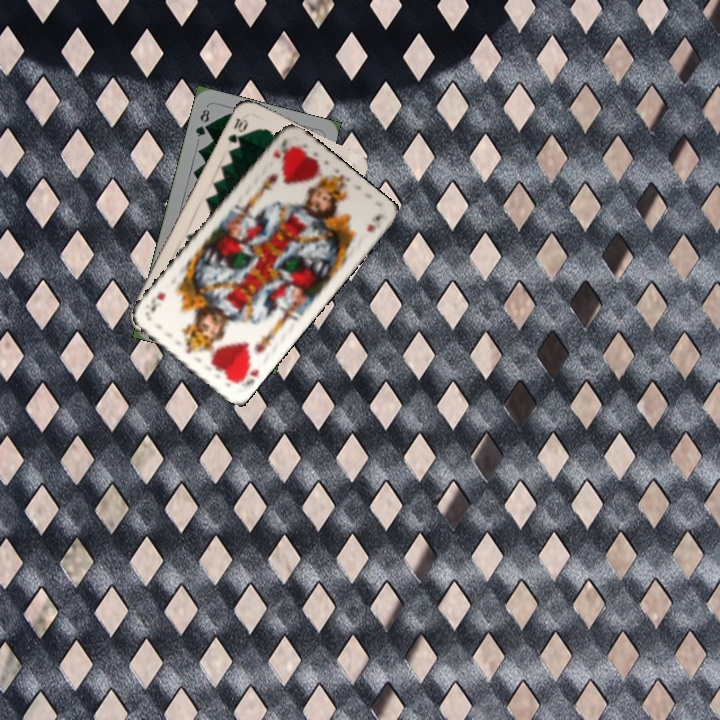G10: (224, 113, 251, 147)
G8: (191, 103, 212, 139)
HK: (231, 359, 262, 389), (268, 135, 287, 161)
